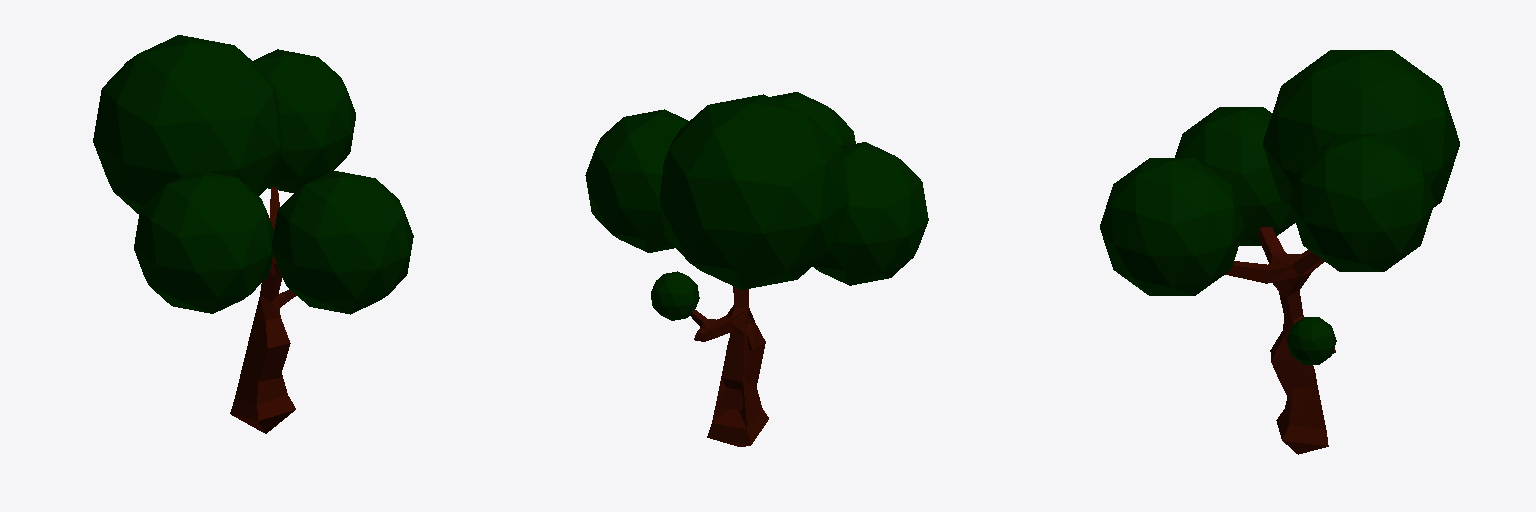
The model's file is polytree3.obj.
3 renders of one model, left to right at view 1: azimuth 30°, elevation 25°; view 2: azimuth 150°, elevation 25°; view 3: azimuth 270°, elevation 25°, orthographic.
Parts seen in each view (by area): view 1: Icosphere.003_Icosphere.004, Icosphere.001_Icosphere.002, Icosphere.002_Icosphere.003, Icosphere_Icosphere.001, testtree_Cube; view 2: Icosphere.003_Icosphere.004, Icosphere.002_Icosphere.003, Icosphere_Icosphere.001, testtree_Cube, Icosphere.004_Icosphere.005, Icosphere.001_Icosphere.002; view 3: Icosphere.003_Icosphere.004, Icosphere.001_Icosphere.002, Icosphere_Icosphere.001, Icosphere.002_Icosphere.003, testtree_Cube, Icosphere.004_Icosphere.005.
Part boxes in pixels (x1,y1,x2,y2): Icosphere.003_Icosphere.004: (93, 35, 282, 213); Icosphere.001_Icosphere.002: (272, 171, 413, 314); Icosphere.002_Icosphere.003: (134, 170, 273, 313); Icosphere_Icosphere.001: (253, 49, 355, 192); testtree_Cube: (230, 187, 296, 433); Icosphere.003_Icosphere.004: (659, 94, 849, 289); Icosphere.002_Icosphere.003: (812, 142, 928, 285); Icosphere_Icosphere.001: (585, 109, 688, 252); testtree_Cube: (690, 286, 768, 446); Icosphere.004_Icosphere.005: (651, 271, 699, 320); Icosphere.001_Icosphere.002: (770, 92, 855, 146); Icosphere.003_Icosphere.004: (1263, 50, 1459, 208); Icosphere.001_Icosphere.002: (1100, 158, 1244, 295); Icosphere_Icosphere.001: (1289, 134, 1434, 271); Icosphere.002_Icosphere.003: (1175, 107, 1295, 245); testtree_Cube: (1225, 227, 1335, 454); Icosphere.004_Icosphere.005: (1287, 317, 1336, 364).
Size of the model in its own units: 5.62 by 7.81 by 6.74.